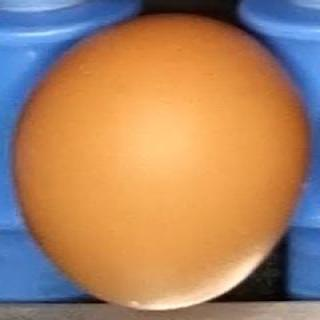Telur: (9, 11, 310, 312)
